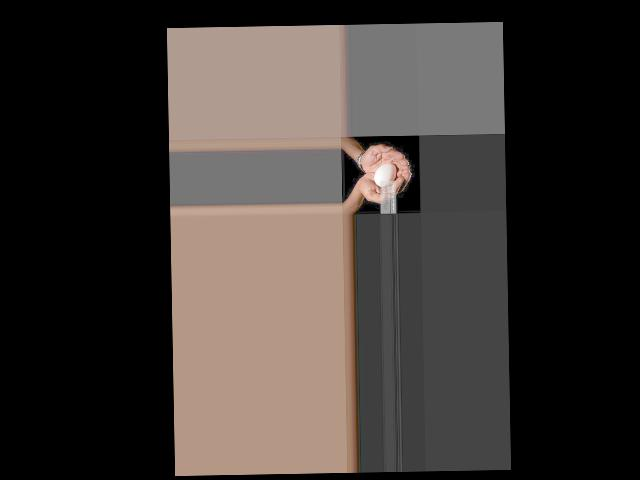egg: (374, 162, 397, 186)
